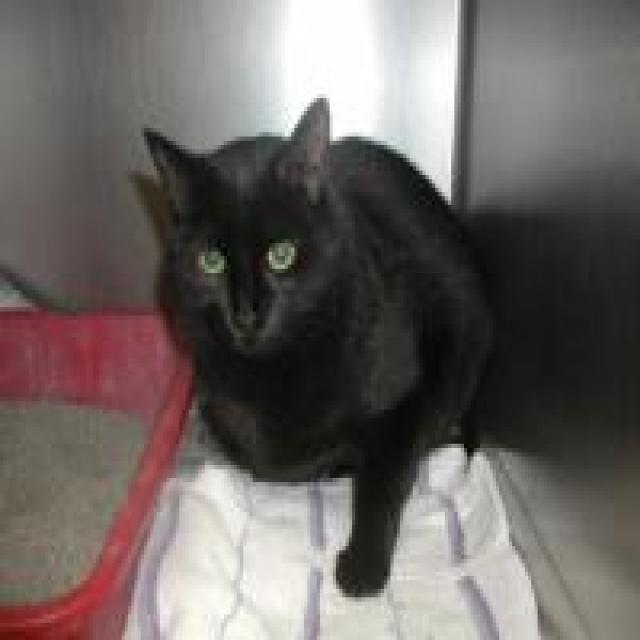Cats: (128, 90, 499, 597)
